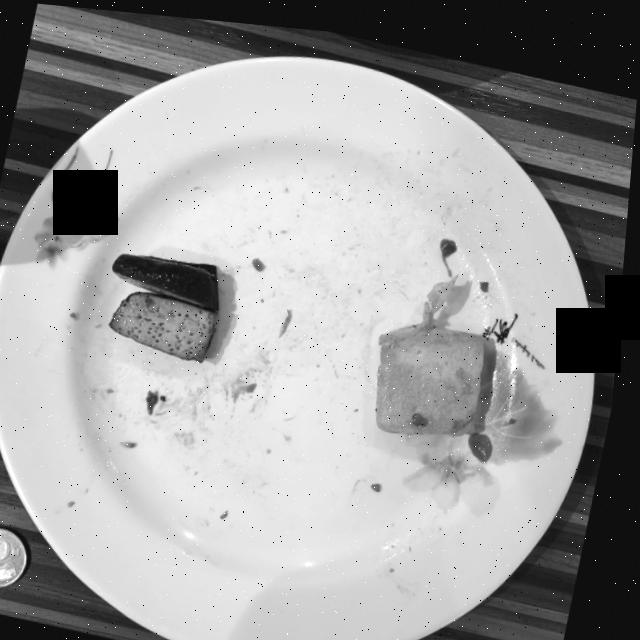coin: (0, 525, 37, 586)
creamy tofu -without sauce-: (381, 265, 489, 425)
firm tofu: (115, 250, 224, 356)
